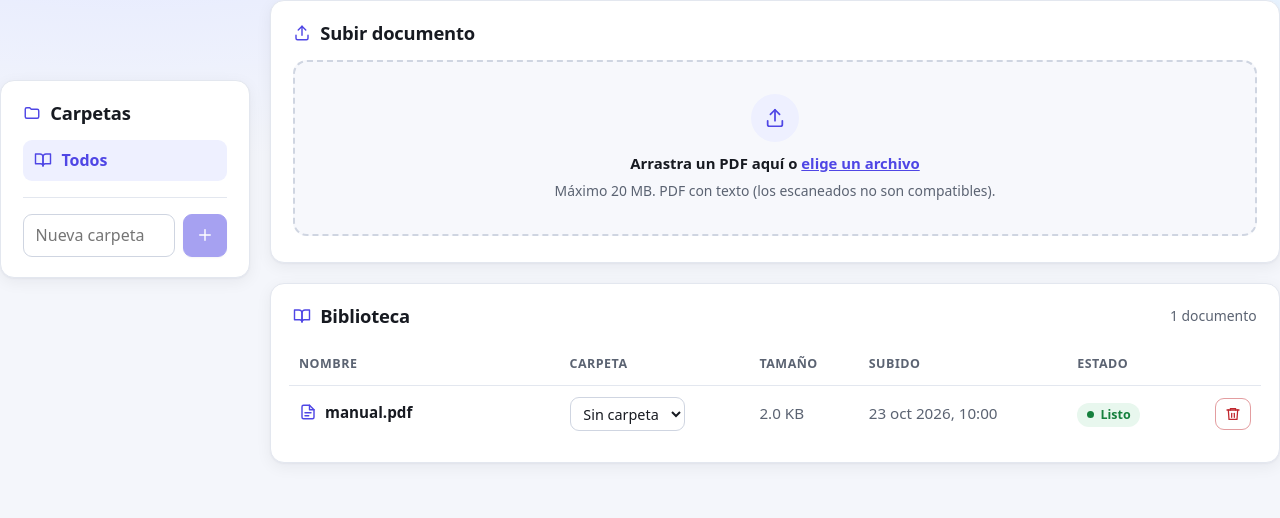
it: LibraryPage › pide confirmación, avisa de la papelera y recarga la lista
The image size is (1280, 518).
Click the button named "Eliminar manual.pdf": (1233, 414) [1215,398,1251,430]
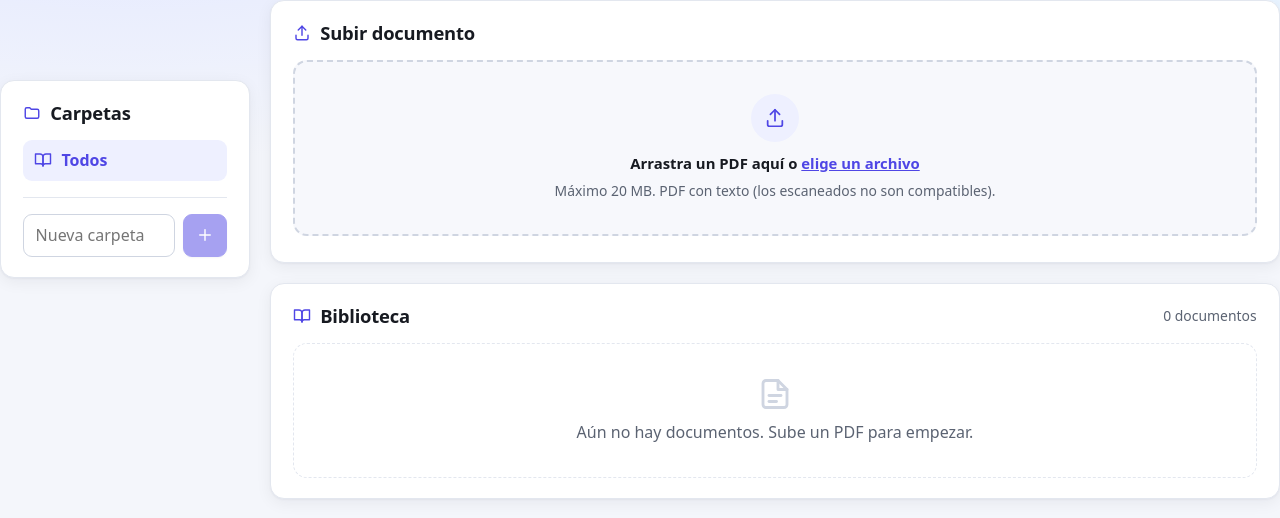
Now the text "Aún no hay documentos. Sube un PDF para empezar." is shown, box [293,343,1257,478]
